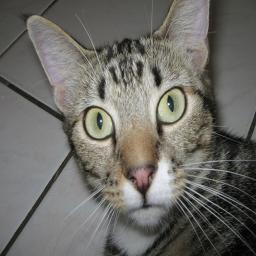catnose: (126, 164, 156, 194)
